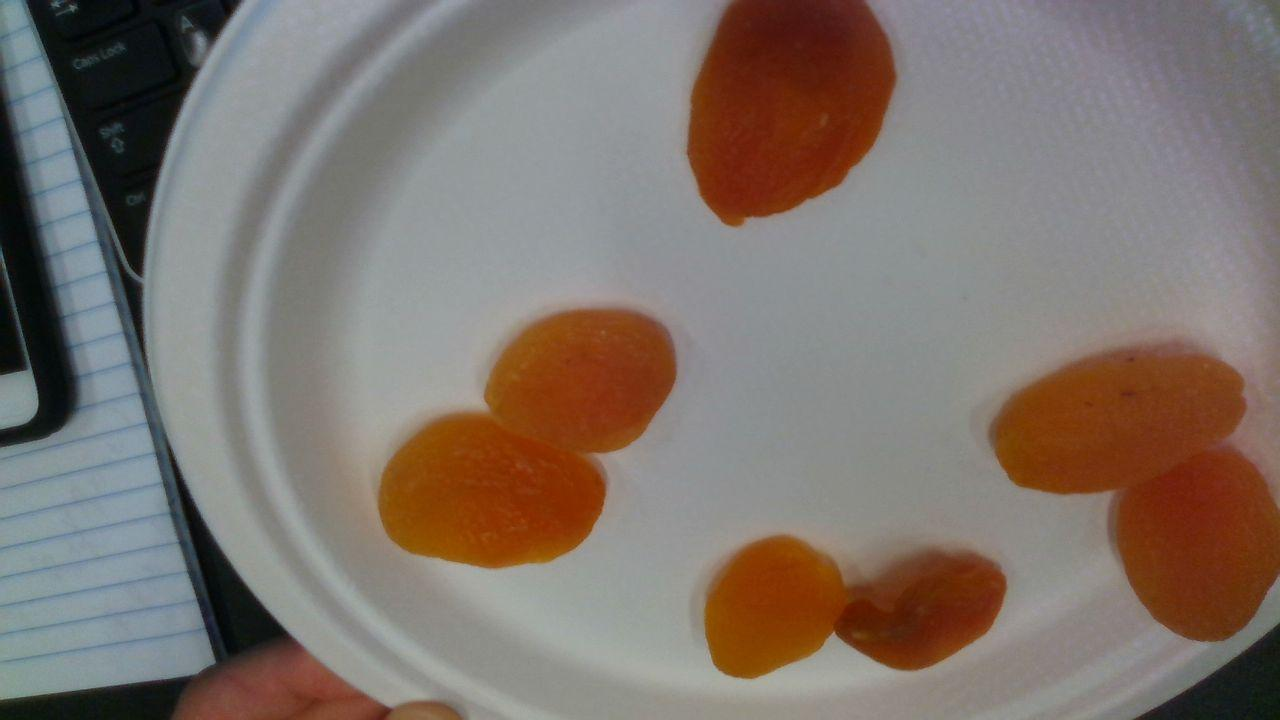apricot: (687, 1, 896, 226), (994, 358, 1248, 495), (380, 419, 606, 567), (1117, 452, 1280, 641), (485, 312, 678, 453), (705, 542, 845, 678), (837, 568, 1008, 671)
